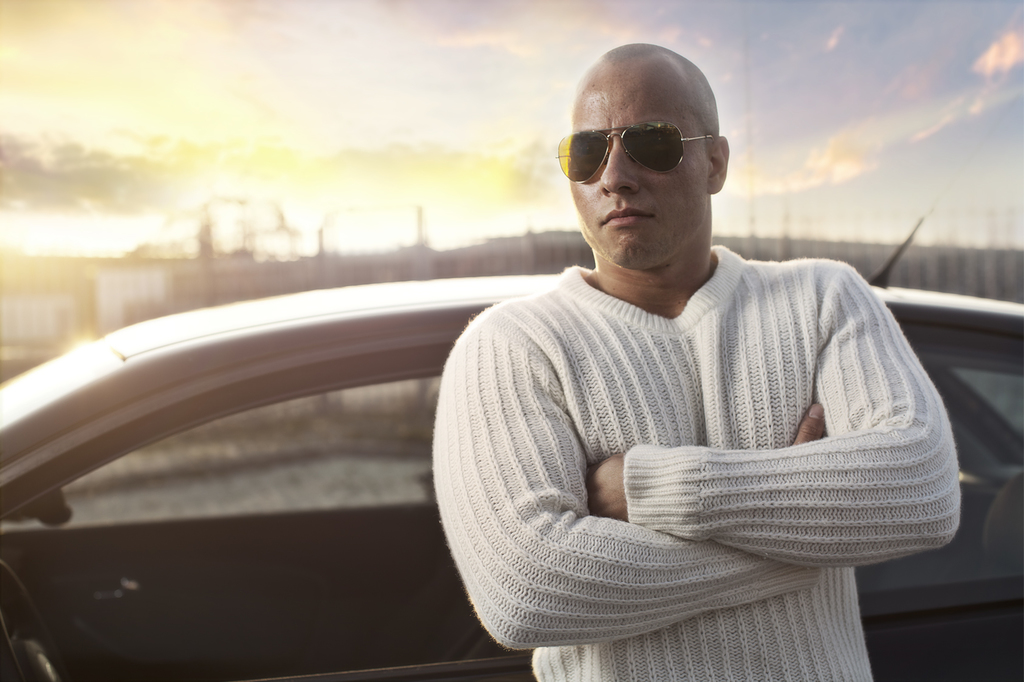cars: (0, 211, 1023, 681)
